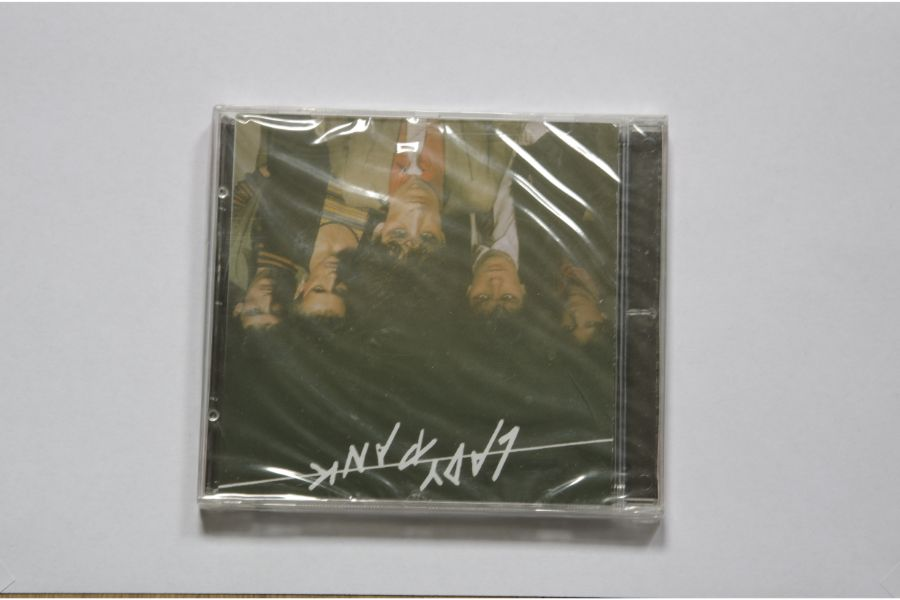album: (199, 106, 668, 525)
